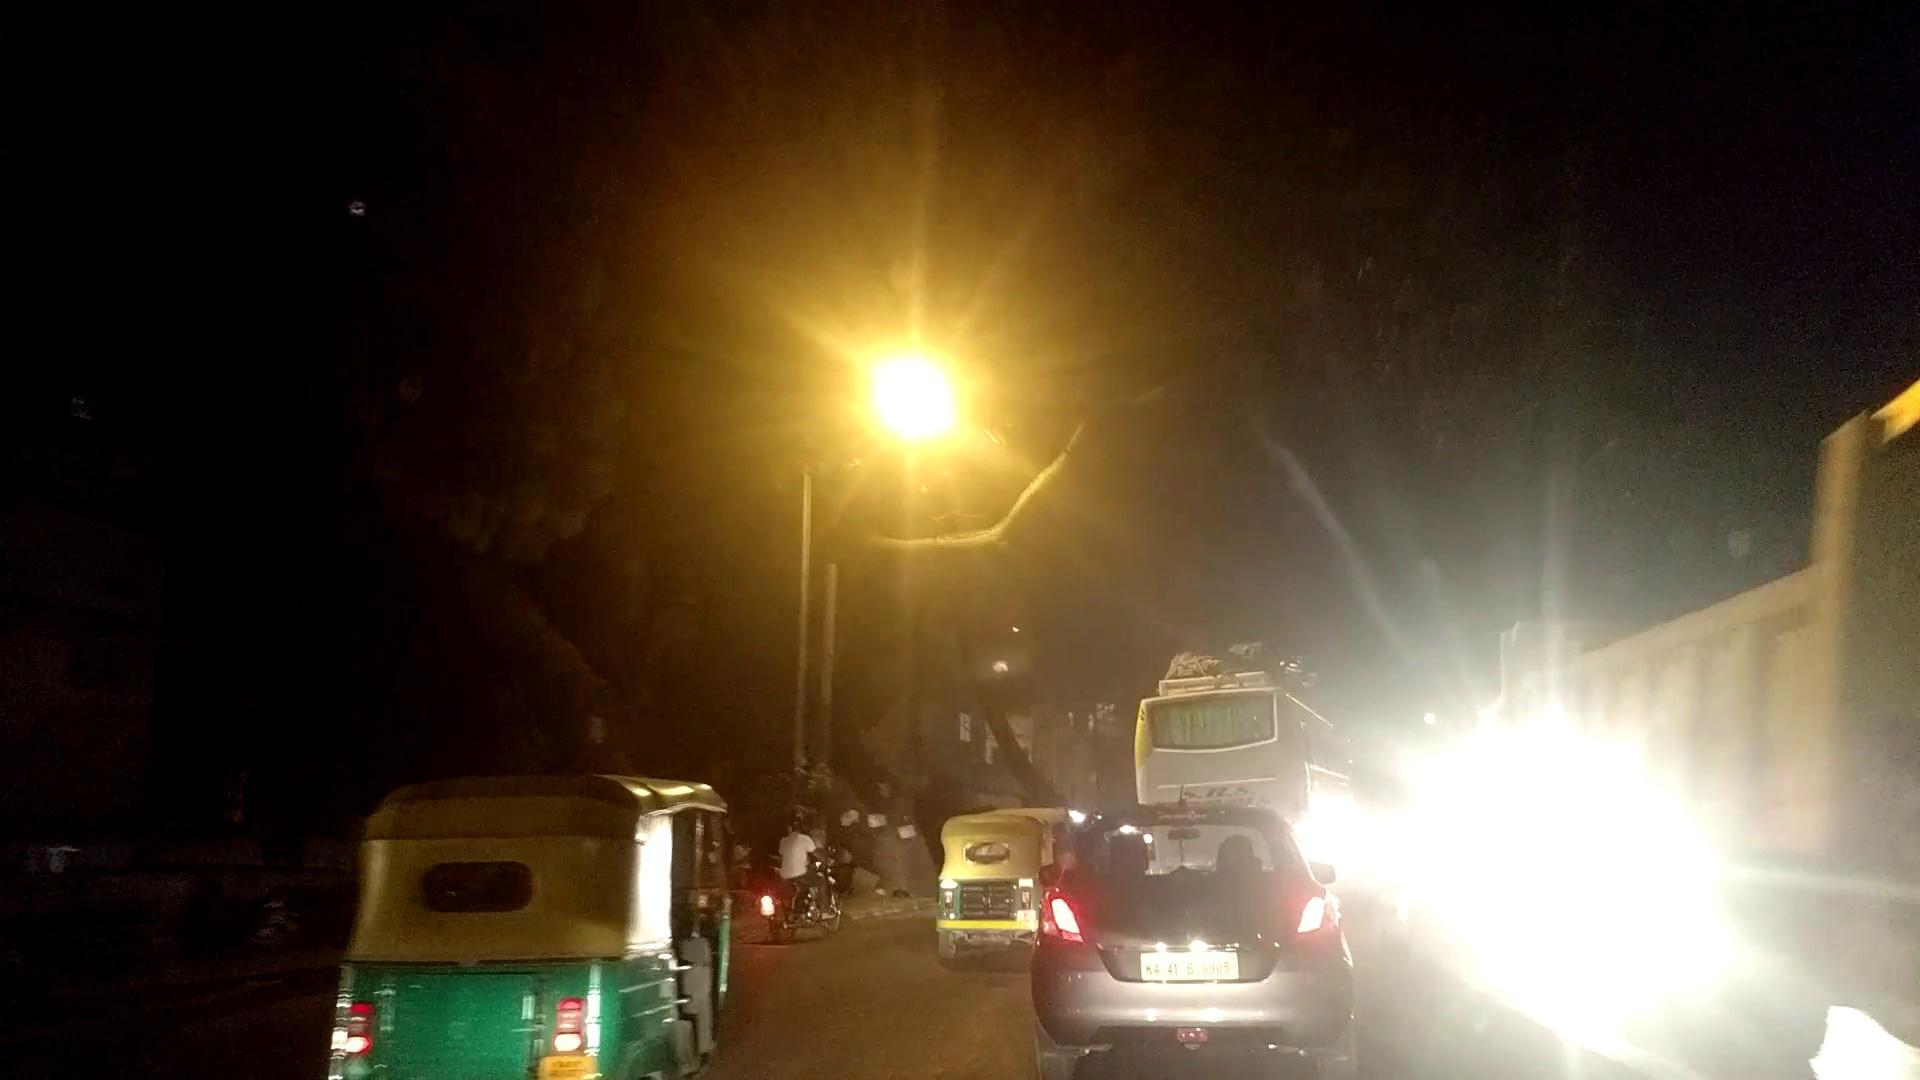on: (680, 212, 1143, 675)
